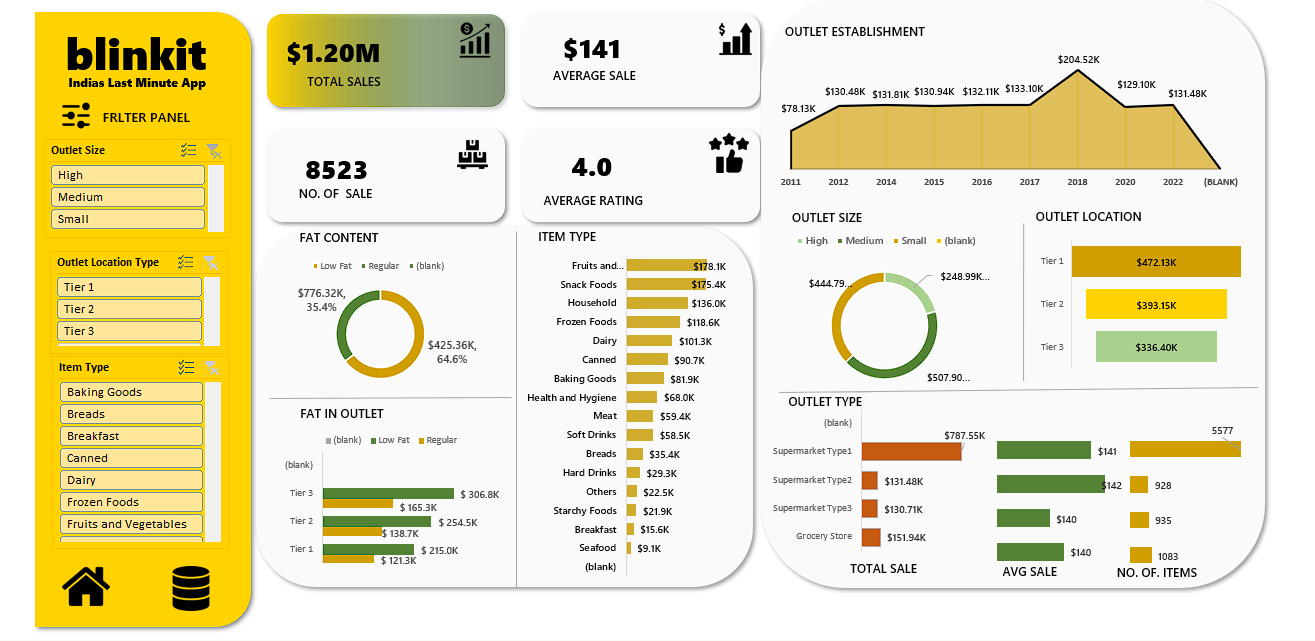

What the dashboard file says about the page in this screenshot:
{"tool":"powerbi","page":{"name":"Blinkit Dashboard","canvas":[1280,720],"ordinal":0},"visuals":[{"type":"shape","box":[0,12.4,246.3,695.4],"z":0},{"type":"textbox","box":[45.3,31.6,168.8,78.2],"z":1000},{"type":"textbox","box":[39.8,90.6,181.1,38.4],"z":2000},{"type":"shape","box":[260,258.7,481.4,440.4],"z":3000},{"type":"cardVisual","fields":{"Data":["Measures Table.Total Sale","Measures Table.Avg Sale","Measures Table.no of Items","Measures Table.Avg Ratting"]},"box":[245.1,0,510,267.5],"z":4000},{"type":"shape","box":[477.7,298.6,18.7,393.1],"z":5000},{"type":"shape","box":[266.2,480.2,215.2,28.6],"z":6000},{"type":"slicer","fields":{"Values":["Metrics.Metrics"]},"box":[260,258.7,481.4,39.8],"z":7000},{"type":"card","fields":{"Values":["Measures Table.Total Sale"]},"box":[334.6,385.6,77,65],"z":8000},{"type":"donutChart","title":"Sale By Fat Contain","fields":{"Y":["Measures Table.Total Sale"],"Category":["BlinkIT Grocery Data.Item Fat Content"]},"box":[260,298.6,227,195],"z":9000},{"type":"shape","box":[740.2,21.1,538.6,686.7],"z":10000},{"type":"clusteredBarChart","title":"Fat In Outlet","fields":{"Y":["Measures Table.Total Sale"],"Category":["BlinkIT Grocery Data.Outlet Location Type"],"Series":["BlinkIT Grocery Data.Item Fat Content"]},"box":[266.2,493.9,220.2,196.5],"z":11000},{"type":"clusteredBarChart","title":"Item Type","fields":{"Category":["BlinkIT Grocery Data.Item Type"],"Y":["Sum(BlinkIT Grocery Data.Sales)"]},"box":[487.6,298.6,253.8,391.8],"z":12000},{"type":"lineChart","title":"Outlet Esrablishment","fields":{"Category":["BlinkIT Grocery Data.Outlet Establishment Year"],"Y":["Sum(BlinkIT Grocery Data.Sales)"]},"box":[741.4,31.1,527.4,236.4],"z":13000},{"type":"donutChart","title":"Outlet Size","fields":{"Category":["BlinkIT Grocery Data.Outlet Size"],"Y":["Sum(BlinkIT Grocery Data.Sales)"]},"box":[750.1,278.6,255,191.6],"z":14000},{"type":"shape","box":[750.1,267.5,518.7,19.9],"z":15000},{"type":"funnel","title":"Outleet Size","fields":{"Category":["BlinkIT Grocery Data.Outlet Location Type"],"Y":["Sum(BlinkIT Grocery Data.Sales)"]},"box":[996.4,278.6,246.3,201.5],"z":16000},{"type":"shape","box":[741.4,483.9,518.7,19.9],"z":17000},{"type":"shape","box":[987.7,282.4,13.7,206.5],"z":18000},{"type":"pivotTable","fields":{"Rows":["BlinkIT Grocery Data.Outlet Type"],"Values":["Measures Table.Total Sale","Measures Table.Avg Sale","Measures Table.No of Items","Measures Table.Avg Ratting"]},"box":[756.3,508.8,486.4,187.8],"z":19000},{"type":"slicer","fields":{"Values":["BlinkIT Grocery Data.Outlet Location Type"]},"box":[7.5,149.3,231.4,80.9],"z":20000},{"type":"slicer","fields":{"Values":["BlinkIT Grocery Data.Outlet Size"]},"box":[7.5,258.7,231.4,80.9],"z":21000},{"type":"slicer","fields":{"Values":["BlinkIT Grocery Data.Item Type"]},"box":[7.5,359.5,231.4,80.9],"z":22000}]}

Visuals, with their boxes on the page's 1280x720 design canvas (x1, y1, x2, y2). These are canvas units, not pixel positions in the 1315x641 screenshot, which may show the page scaled, cropped or inside an application window:
shape: pyautogui.locateOnScreen(0, 12, 246, 708)
textbox: pyautogui.locateOnScreen(45, 32, 214, 110)
textbox: pyautogui.locateOnScreen(40, 91, 221, 129)
shape: pyautogui.locateOnScreen(260, 259, 741, 699)
cardVisual - Measures Table.Total Sale x Measures Table.Avg Sale: pyautogui.locateOnScreen(245, 0, 755, 268)
shape: pyautogui.locateOnScreen(478, 299, 496, 692)
shape: pyautogui.locateOnScreen(266, 480, 481, 509)
slicer - Metrics.Metrics: pyautogui.locateOnScreen(260, 259, 741, 298)
card - Measures Table.Total Sale: pyautogui.locateOnScreen(335, 386, 412, 451)
"Sale By Fat Contain" donutChart: pyautogui.locateOnScreen(260, 299, 487, 494)
shape: pyautogui.locateOnScreen(740, 21, 1279, 708)
"Fat In Outlet" clusteredBarChart: pyautogui.locateOnScreen(266, 494, 486, 690)
"Item Type" clusteredBarChart: pyautogui.locateOnScreen(488, 299, 741, 690)
"Outlet Esrablishment" lineChart: pyautogui.locateOnScreen(741, 31, 1269, 268)
"Outlet Size" donutChart: pyautogui.locateOnScreen(750, 279, 1005, 470)
shape: pyautogui.locateOnScreen(750, 268, 1269, 287)
"Outleet Size" funnel: pyautogui.locateOnScreen(996, 279, 1243, 480)
shape: pyautogui.locateOnScreen(741, 484, 1260, 504)
shape: pyautogui.locateOnScreen(988, 282, 1001, 489)
pivotTable - BlinkIT Grocery Data.Outlet Type x Measures Table.Total Sale: pyautogui.locateOnScreen(756, 509, 1243, 697)
slicer - BlinkIT Grocery Data.Outlet Location Type: pyautogui.locateOnScreen(8, 149, 239, 230)
slicer - BlinkIT Grocery Data.Outlet Size: pyautogui.locateOnScreen(8, 259, 239, 340)
slicer - BlinkIT Grocery Data.Item Type: pyautogui.locateOnScreen(8, 360, 239, 440)
